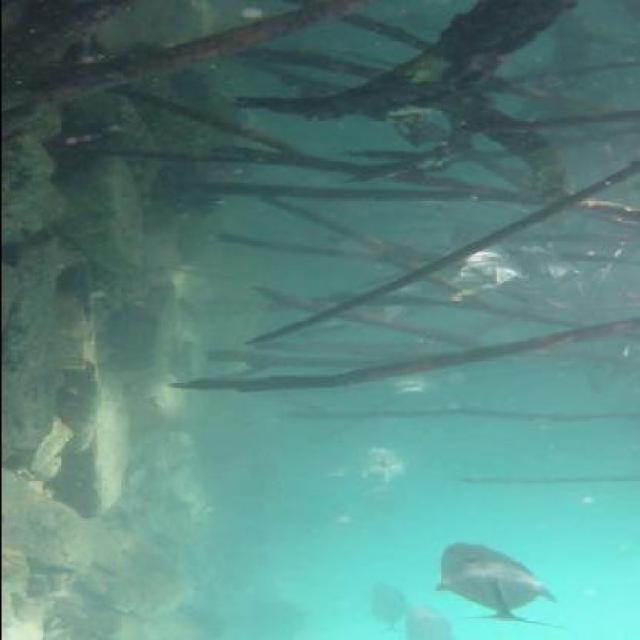Caranx_sexfasciatus_juvenile: (419, 535, 573, 623), (451, 248, 527, 302), (340, 440, 408, 486), (370, 362, 450, 400), (505, 240, 573, 278), (360, 582, 411, 630), (401, 601, 461, 640)
